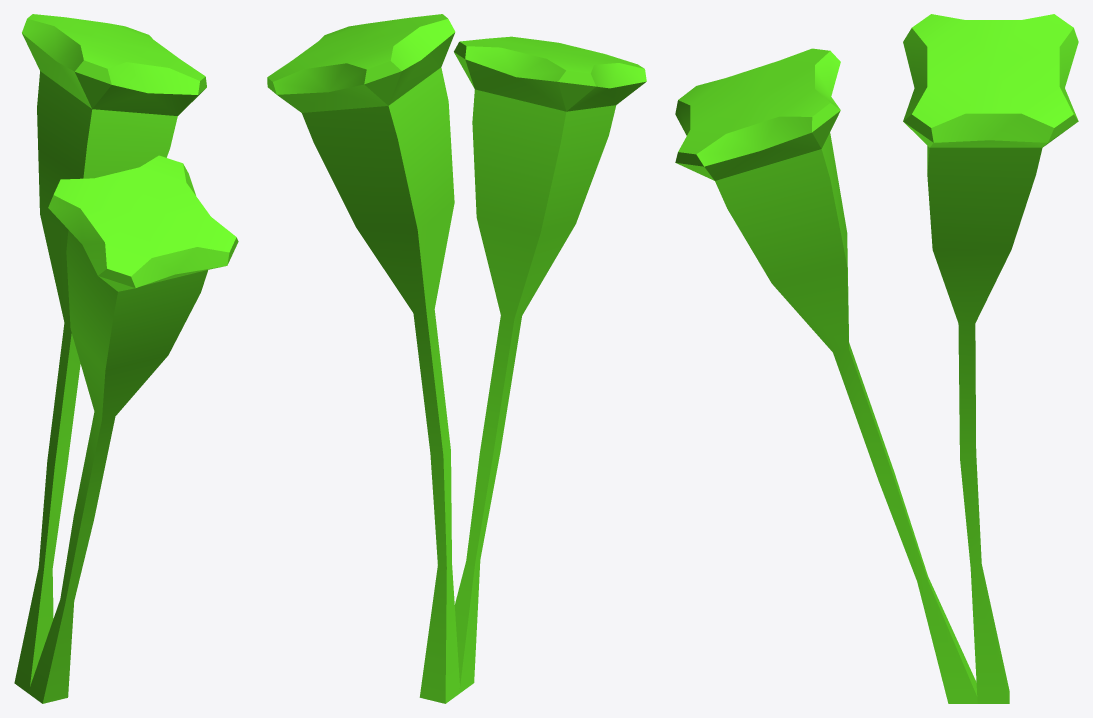
File: SM_Flower_2.FBX
3 views of the same model, side by side, from view 1: azimuth 30°, elevation 25°; view 2: azimuth 150°, elevation 25°; view 3: azimuth 270°, elevation 25° (orthographic). The views are drawn at different scales.
Parts seen in each view (by area): view 1: 2; view 2: 2; view 3: 2.
Boxes of the visible parts, x1,y1,x2,y2 form: 2: (14,14,238,703); 2: (267,14,646,703); 2: (675,14,1078,703).
Bounding box in the file's own units: 1.46 × 4.17 × 2.19.
